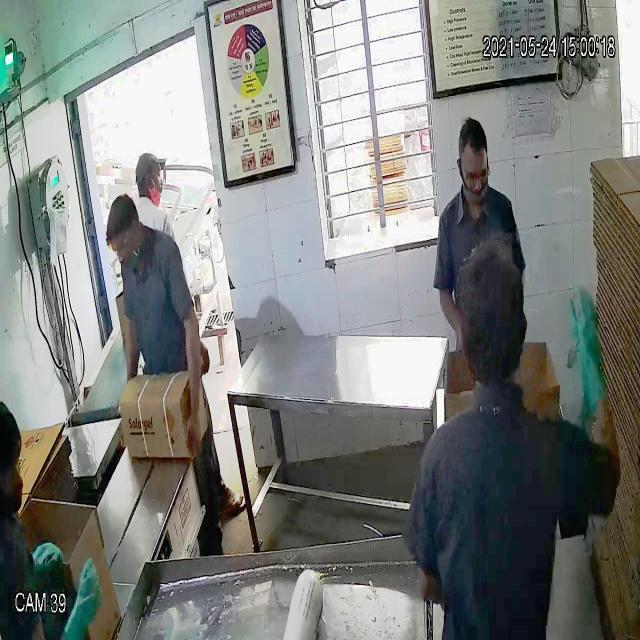glasses: (455, 154, 491, 190)
